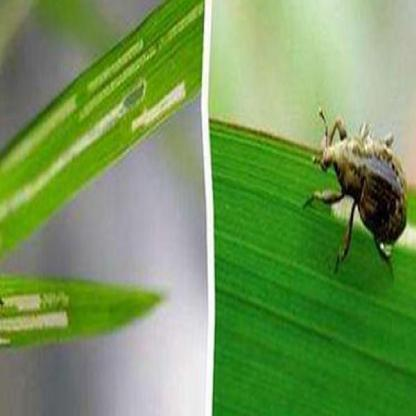rice-bug: (313, 122, 409, 258)
